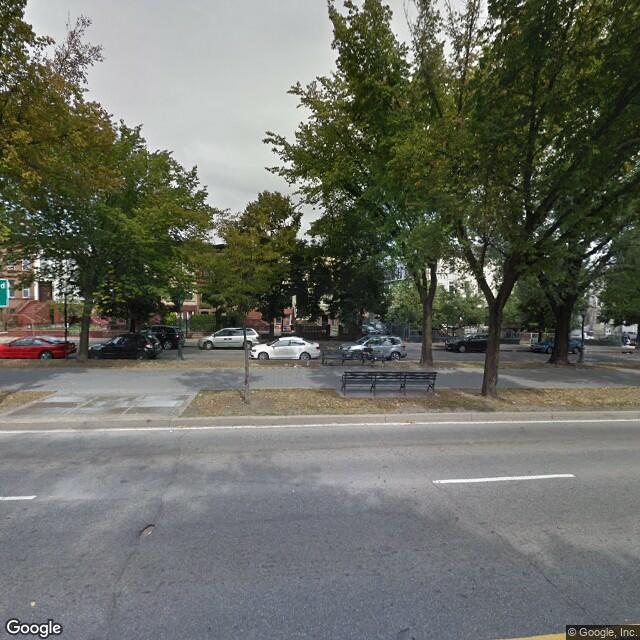litter: (293, 364, 296, 368)
